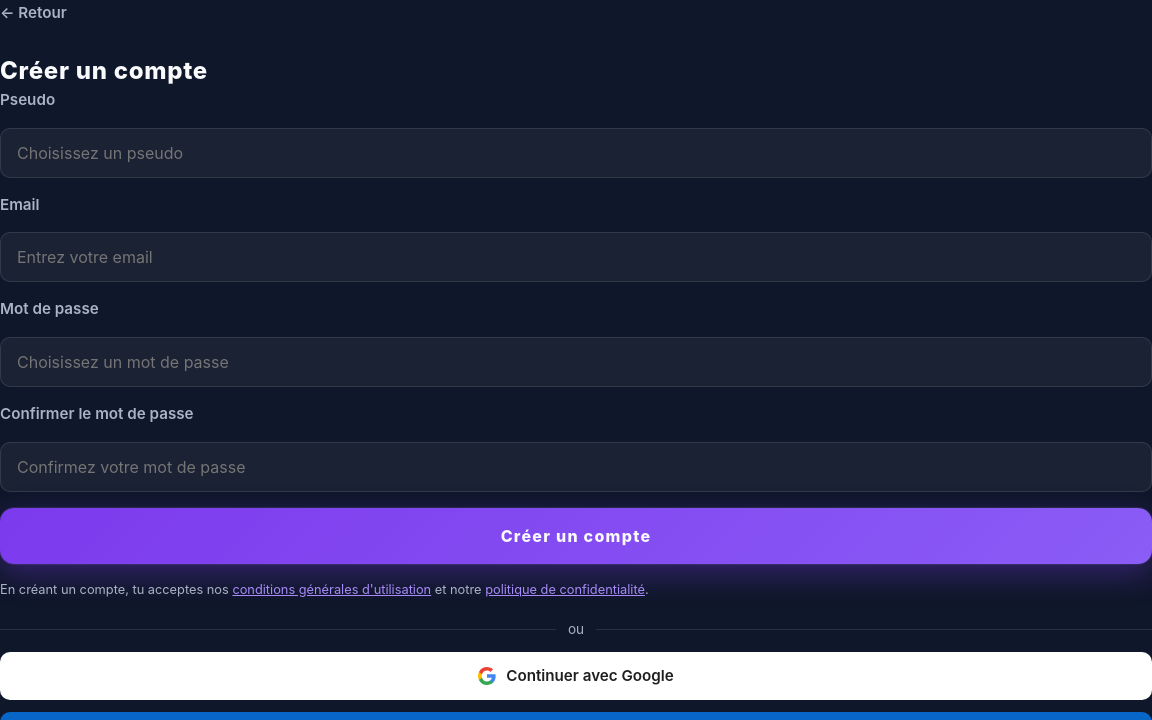
Test case: RegisterForm › affiche une erreur si un champ requis est vide, sans appeler register
This screenshot has width=1152, height=720.
Type "joueur1@lexora.fr" into the field labelled "Email".
click(576, 257); type("joueur1@lexora.fr")  # box [0,232,1151,282]
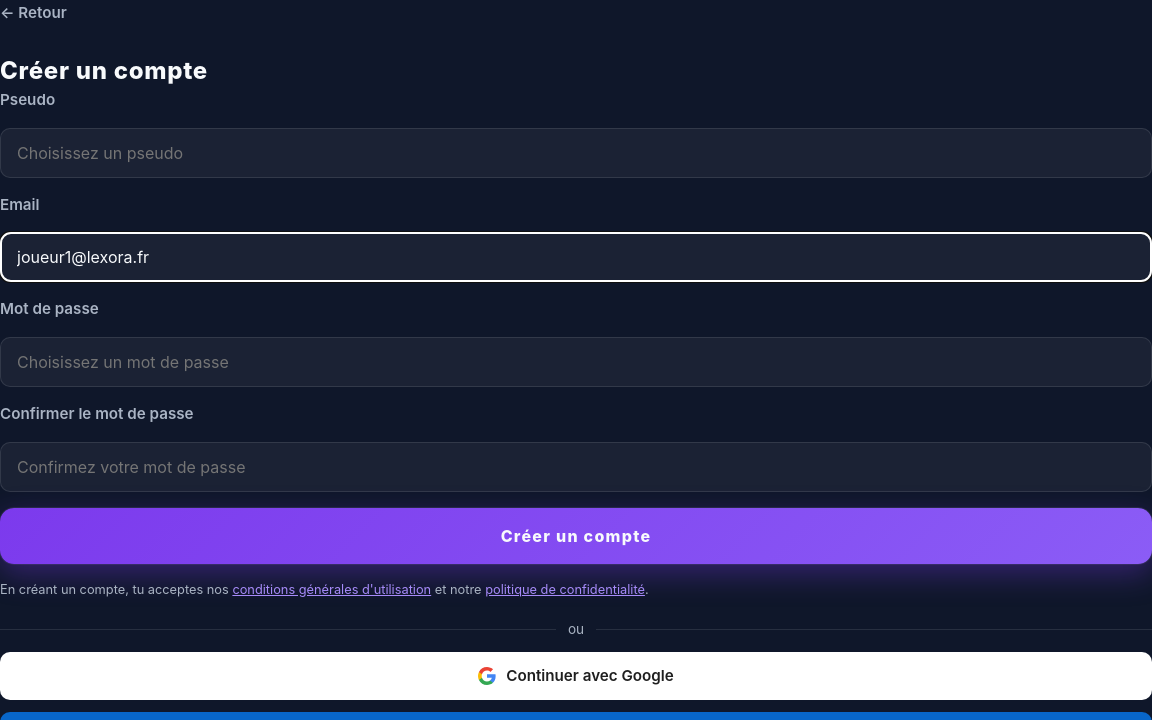
Click the button "Créer un compte".
click(576, 536)  # box [0,508,1151,564]
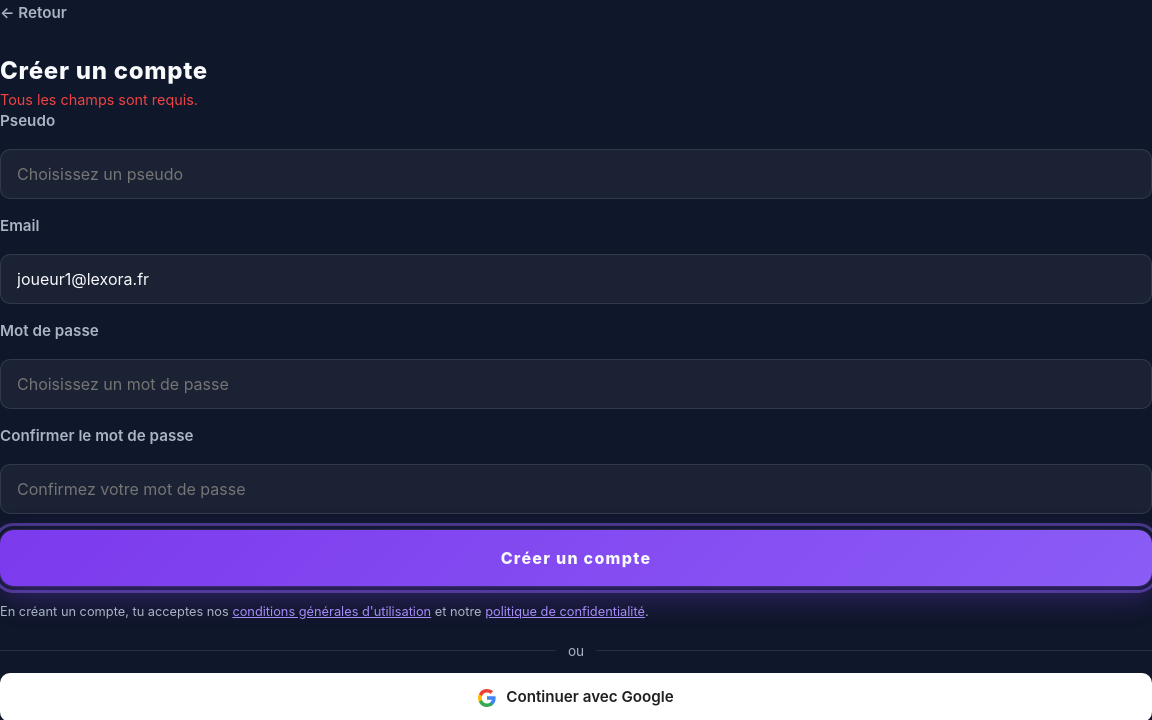
expect the message reads "Tous les champs sont requis.": met, box [0,91,198,108]
